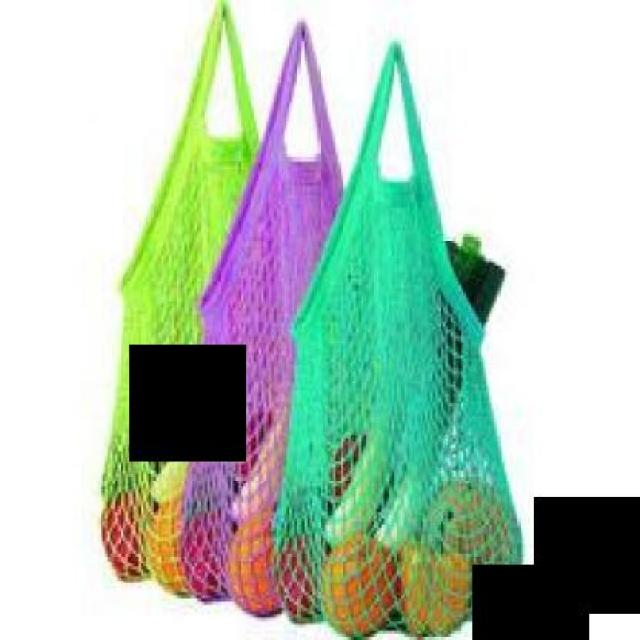plastic bag: (97, 0, 528, 637)
